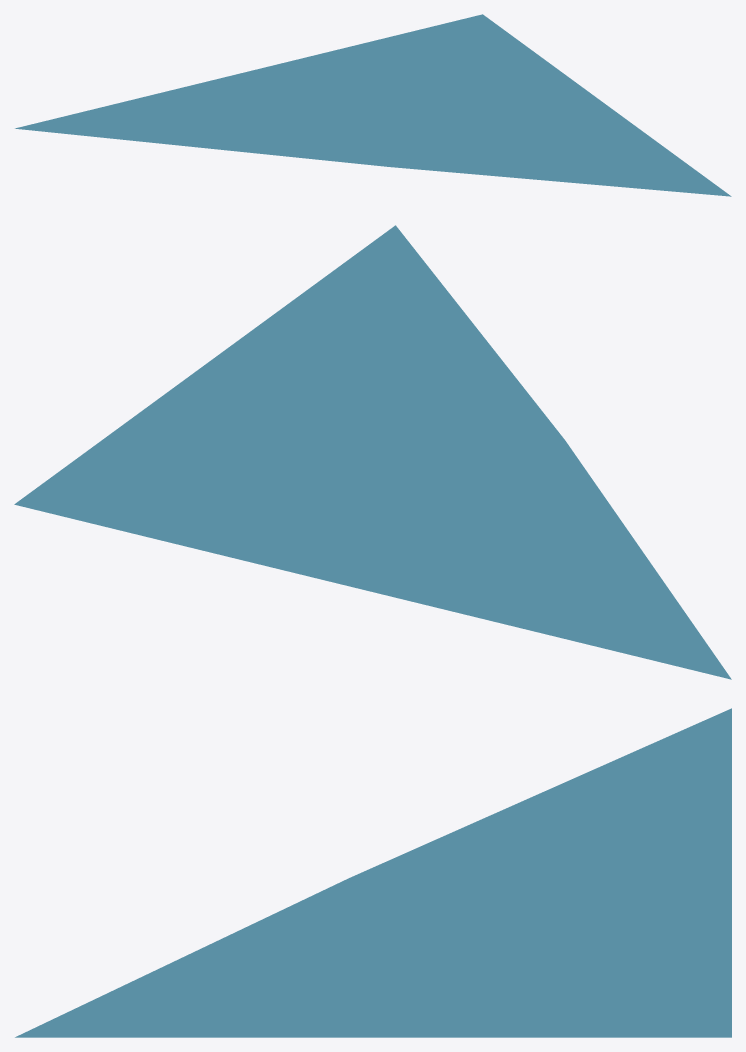
File: nature_-9_7.glb
3 renders of one model, top to bottom at view 1: azimuth 30°, elevation 25°; view 2: azimuth 150°, elevation 25°; view 3: azimuth 270°, elevation 25°, orthographic. The views are drawn at different scales.
Parts seen in each view (by area): view 1: water; view 2: water; view 3: water.
Boxes of the visible parts, left/top/right/bottom form: water: left=15, top=14, right=731, bottom=196; water: left=14, top=225, right=731, bottom=679; water: left=15, top=708, right=731, bottom=1037.
Bounding box in the file's own units: 109 × 0 × 101.
